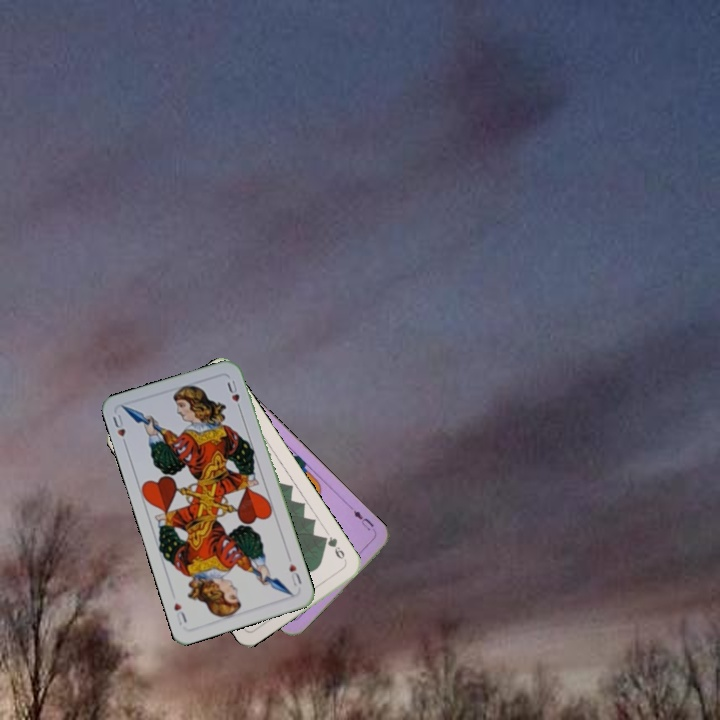EU: (346, 503, 379, 536)
G9: (318, 532, 349, 565)
HU: (109, 410, 130, 449), (285, 559, 304, 589)
